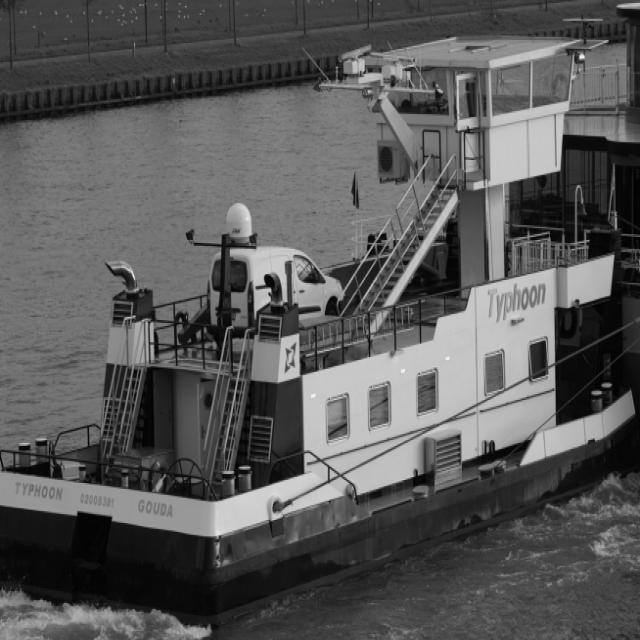tugboat: (1, 13, 640, 639)
